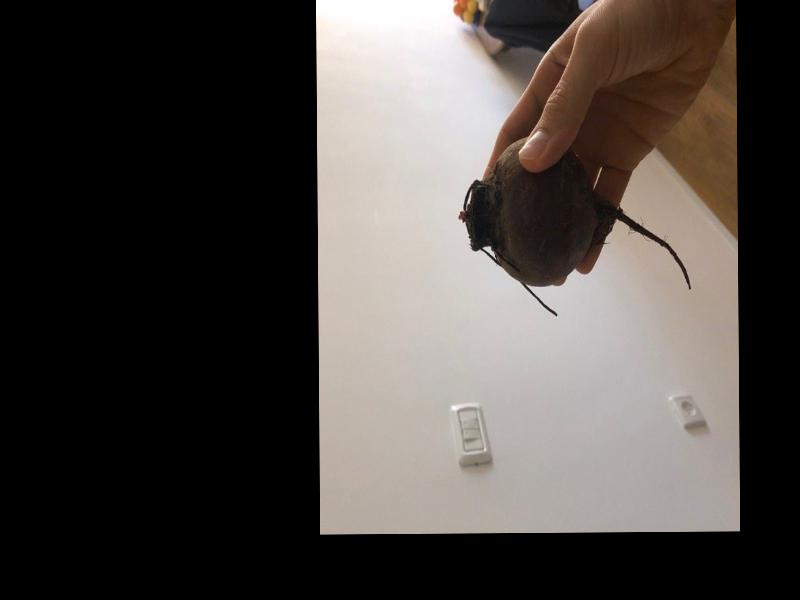Beet: (458, 134, 691, 318)
